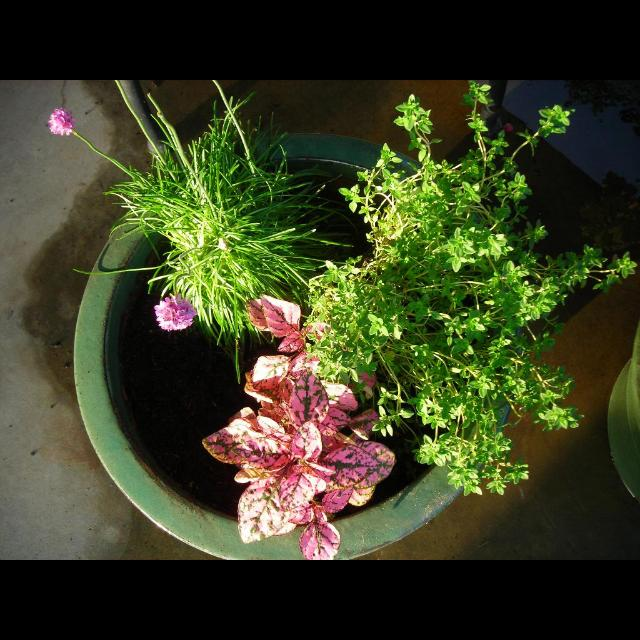Flower: (142, 287, 196, 337), (48, 108, 76, 134)
